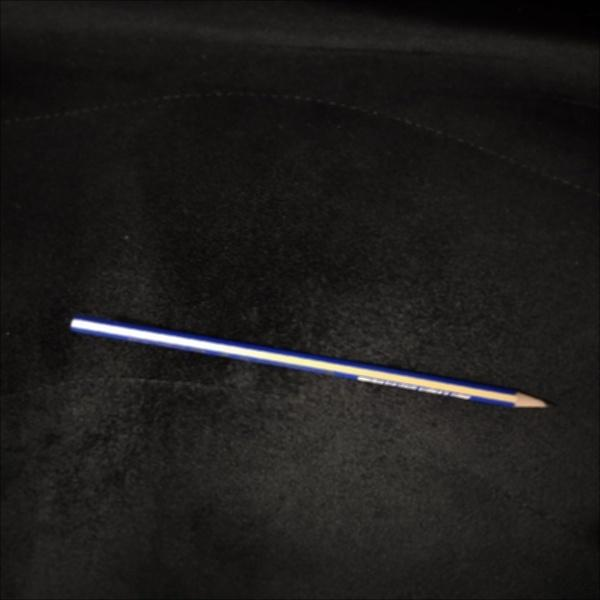pencil: (64, 309, 557, 421)
